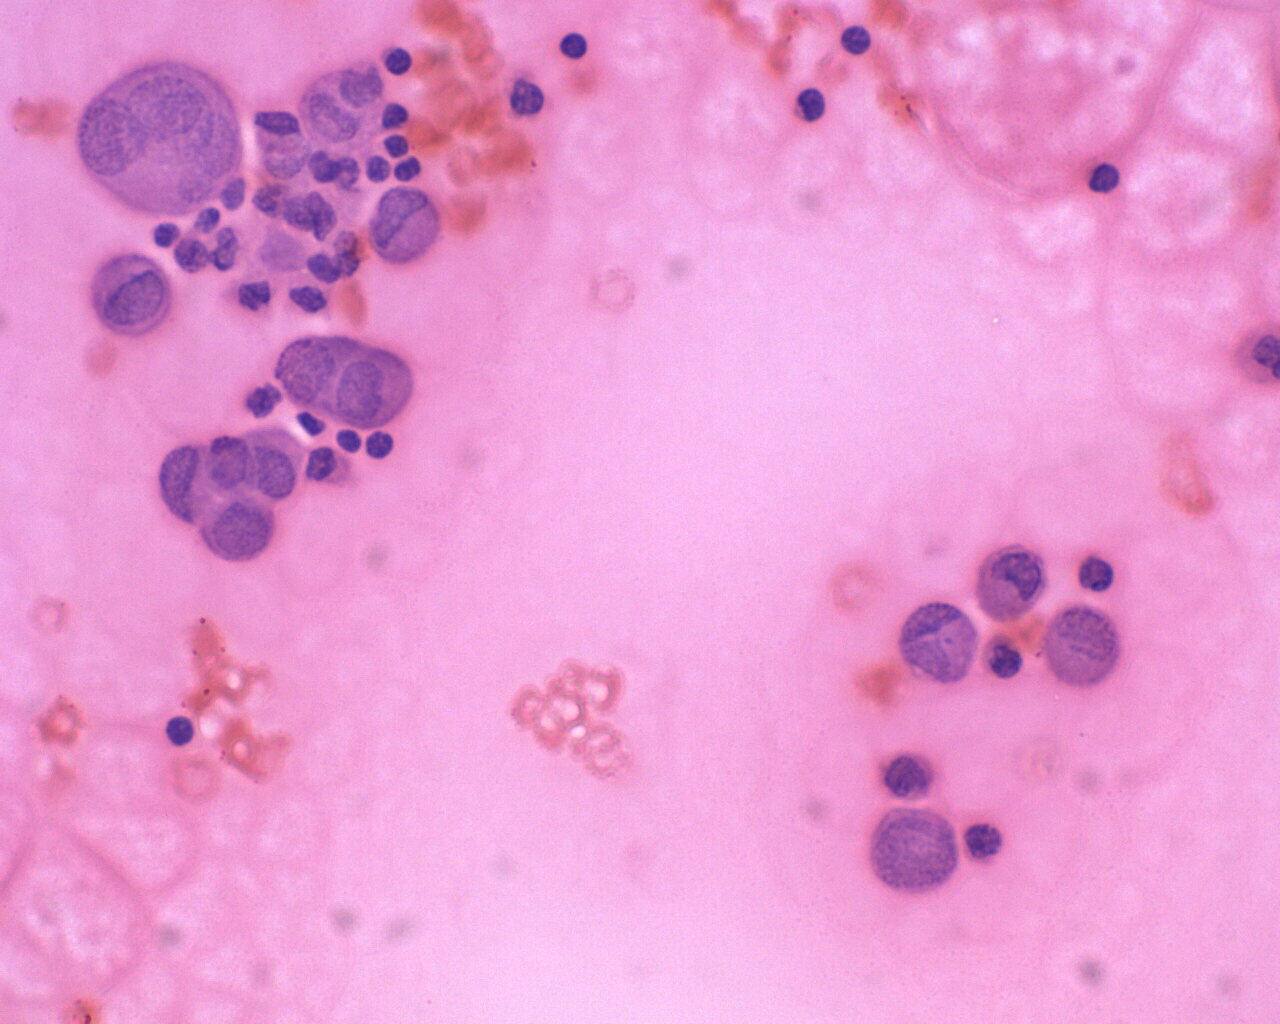ab: (79, 56, 241, 219), (862, 806, 963, 894), (85, 243, 171, 347), (330, 331, 412, 437), (367, 181, 451, 276), (972, 540, 1056, 633), (193, 485, 287, 565), (274, 332, 340, 416)
lymph: (1087, 154, 1131, 201), (557, 26, 600, 66), (378, 42, 417, 80)
